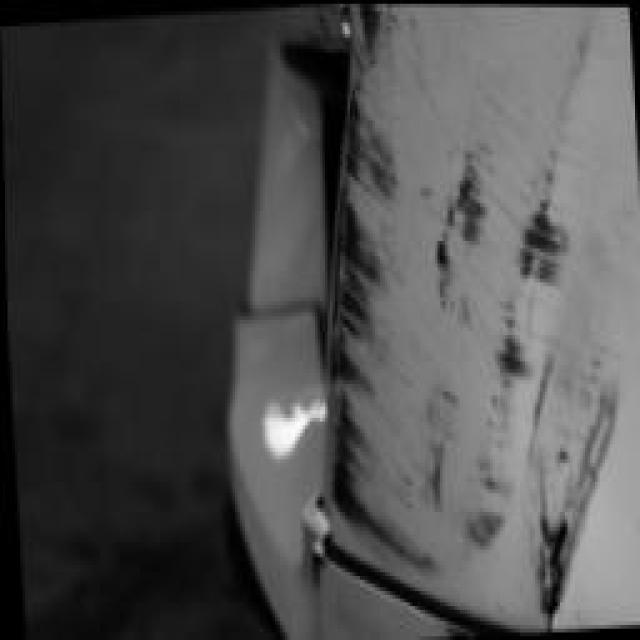Fender: (290, 4, 640, 579)
